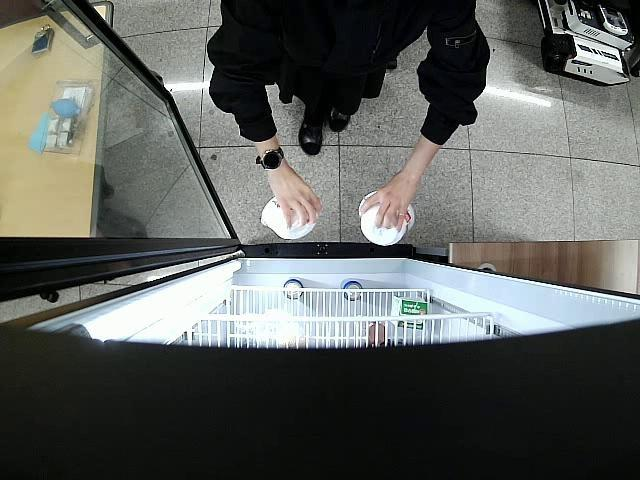09_yukGaeJang: (358, 191, 418, 246), (262, 197, 316, 238)
